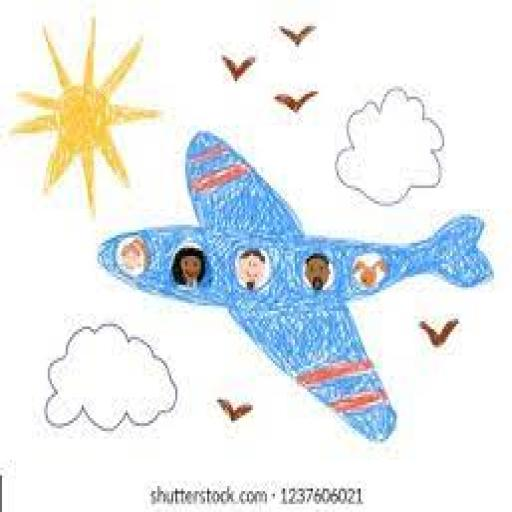person: (164, 237, 210, 295), (234, 239, 274, 293), (294, 250, 337, 300), (351, 249, 389, 300), (114, 230, 147, 281)
